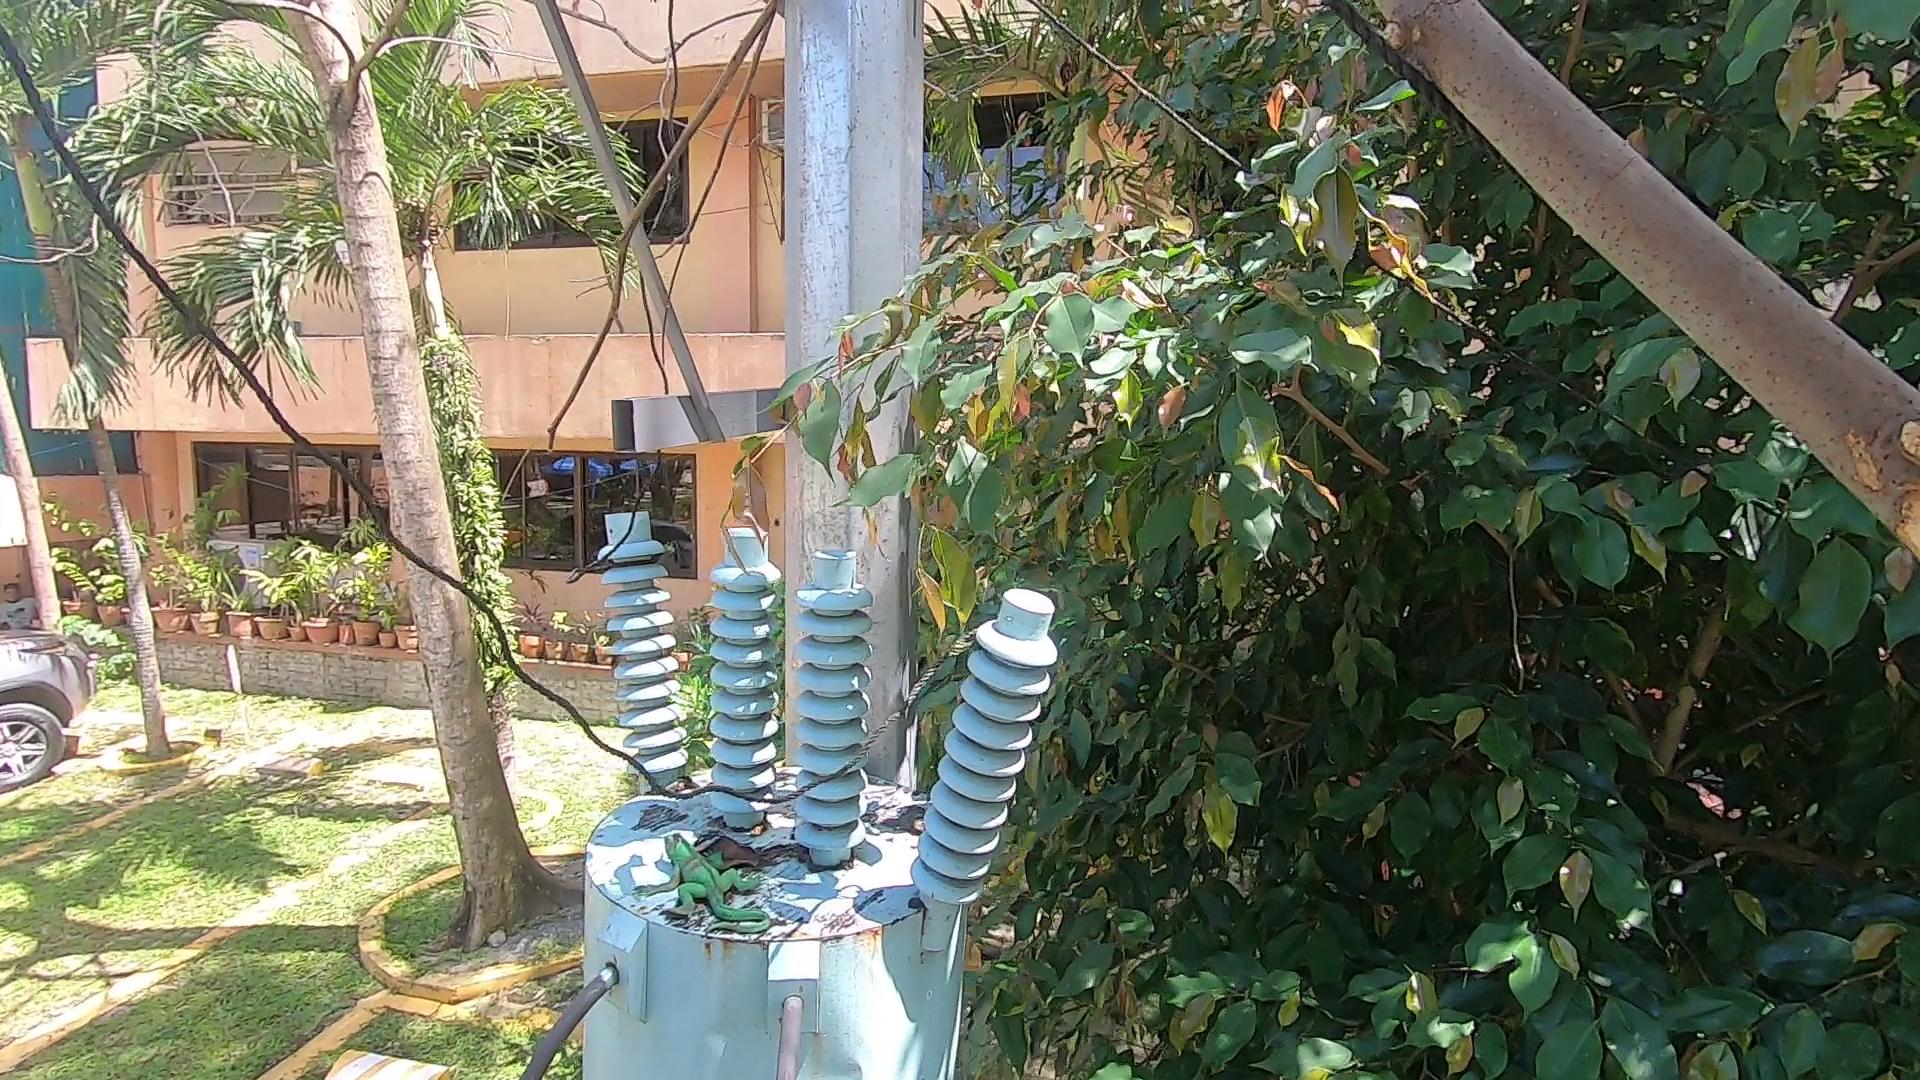branch with leaves: (733, 276, 1079, 591)
leaf: (702, 828, 816, 884), (876, 807, 951, 855), (651, 767, 703, 799)
tree branch: (1381, 9, 1920, 525)
